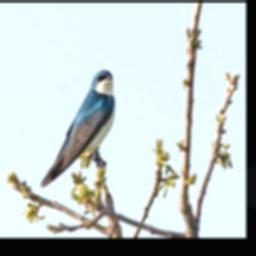Swallow: (36, 64, 119, 189)
